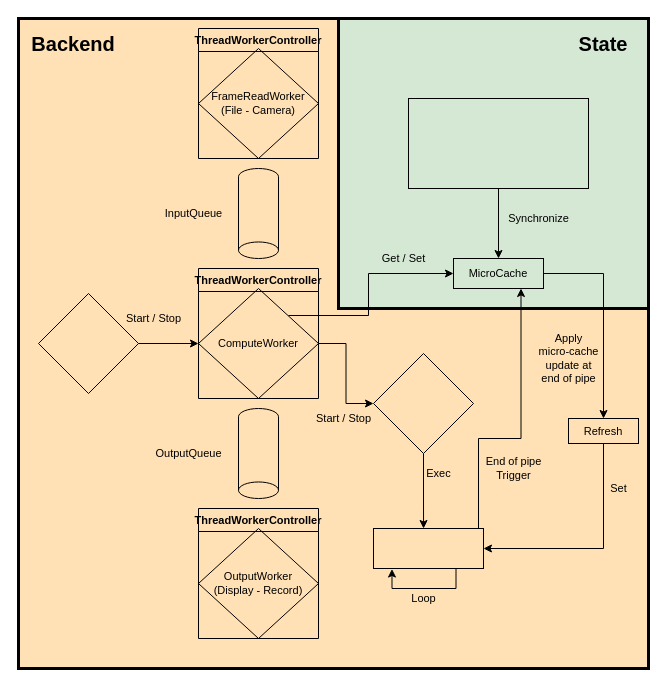
This 667x687 diagram has some shape labels left out. The shapes that lost their labels are listed below. From the top down, each one's box as (x1, y1, x2, y2) in pixels, then its label:
(408, 98, 588, 188): GSH (Global State Holder)
(38, 292, 138, 394): Holovibes
(372, 352, 474, 454): Pipe
(372, 528, 484, 568): fn_vect Run all computations
